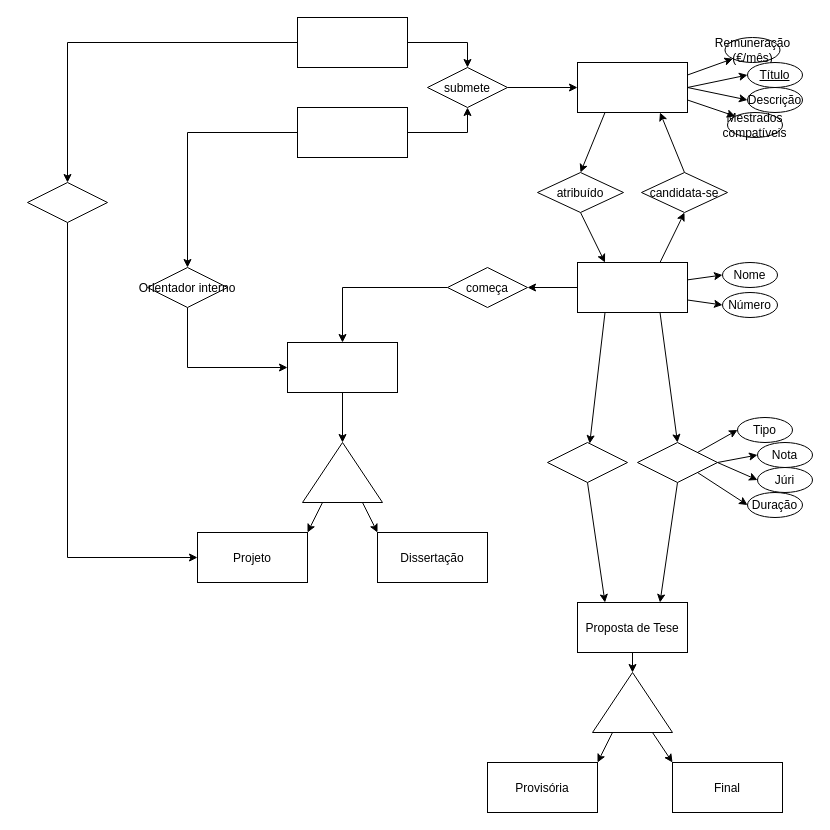
The diagram is 830 pixels wide and 830 high, and some of its shapes have lost their labels. The centre of each missing label's shape, as x and y in pixels:
Aluno: (x=632, y=287)
Defende: (x=677, y=462)
Docente: (x=352, y=132)
Empresa: (x=352, y=42)
Entrega: (x=587, y=462)
Orientador externo: (x=67, y=202)
Tema: (x=632, y=87)
Tese: (x=342, y=367)
